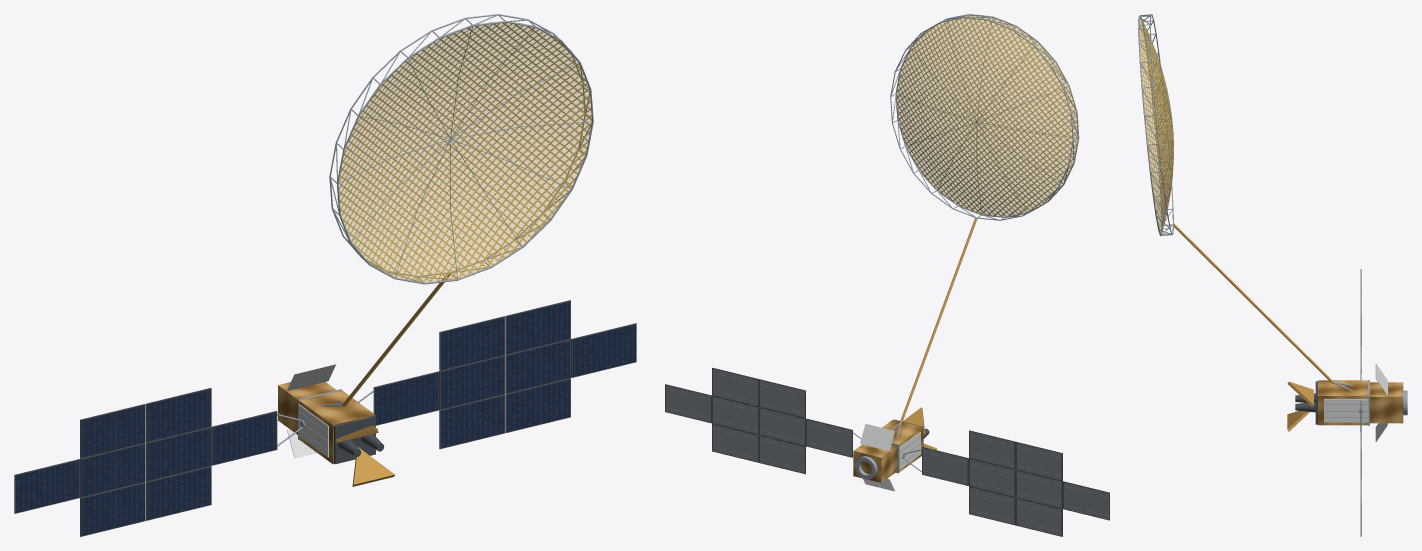
Rendered from ref-bss-702mp-56370.glb.
The picture shows the model from 3 angles, left to right: view 1: azimuth 30°, elevation 25°; view 2: azimuth 150°, elevation 25°; view 3: azimuth 270°, elevation 25°; orthographic projection. The views are drawn at different scales.
Visible parts, largest first — view 1: Deployable mesh reflector, Solar cell panel (×16), Payload module, Service module, Earth-facing deck, Radiator face, Feed enclosure petal; view 2: Deployable mesh reflector, Rear array substrate (×16), Service module, Reflector deployment boom, Payload module; view 3: Deployable mesh reflector, Service module, Payload module, Radiator face, Reflector deployment boom.
Part boxes in pixels (bbox=[...]): Deployable mesh reflector: bbox=[337, 22, 592, 282]; Solar cell panel (×16): bbox=[15, 301, 635, 535]; Payload module: bbox=[299, 390, 375, 463]; Service module: bbox=[278, 382, 336, 434]; Earth-facing deck: bbox=[333, 416, 375, 464]; Radiator face: bbox=[298, 404, 328, 457]; Feed enclosure petal: bbox=[352, 447, 394, 486]; Deployable mesh reflector: bbox=[896, 15, 1078, 216]; Rear array substrate (×16): bbox=[665, 369, 1108, 535]; Service module: bbox=[853, 444, 897, 482]; Reflector deployment boom: bbox=[900, 217, 977, 422]; Payload module: bbox=[882, 419, 923, 471]; Deployable mesh reflector: bbox=[1139, 18, 1173, 234]; Service module: bbox=[1370, 382, 1403, 423]; Payload module: bbox=[1318, 380, 1367, 425]; Radiator face: bbox=[1324, 399, 1368, 422]; Reflector deployment boom: bbox=[1174, 223, 1333, 383].
Bounding box in the file's own units: 43.85 × 37.84 × 21.87.
8 materials, 3 textured.
